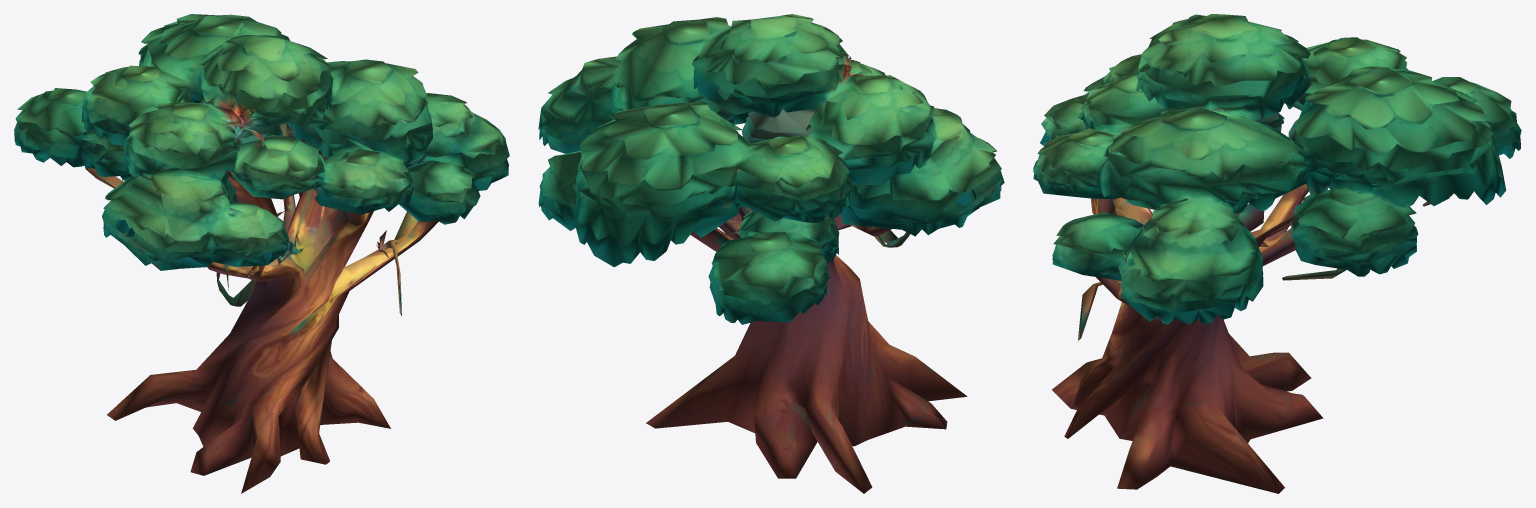
The model's file is fal-canopy.glb.
3 renders of one model, left to right at view 1: azimuth 30°, elevation 25°; view 2: azimuth 150°, elevation 25°; view 3: azimuth 270°, elevation 25°, orthographic. The views are drawn at different scales.
Visible parts, largest first — view 1: node_0; view 2: node_0; view 3: node_0.
Part boxes in pixels (box(x1,y1,x2,y2)): node_0: box(14, 14, 509, 493); node_0: box(538, 14, 1004, 493); node_0: box(1033, 14, 1521, 493).
Bounding box in the file's own units: 1.1 × 0.9959 × 1.05.
1 material, 1 textured.
